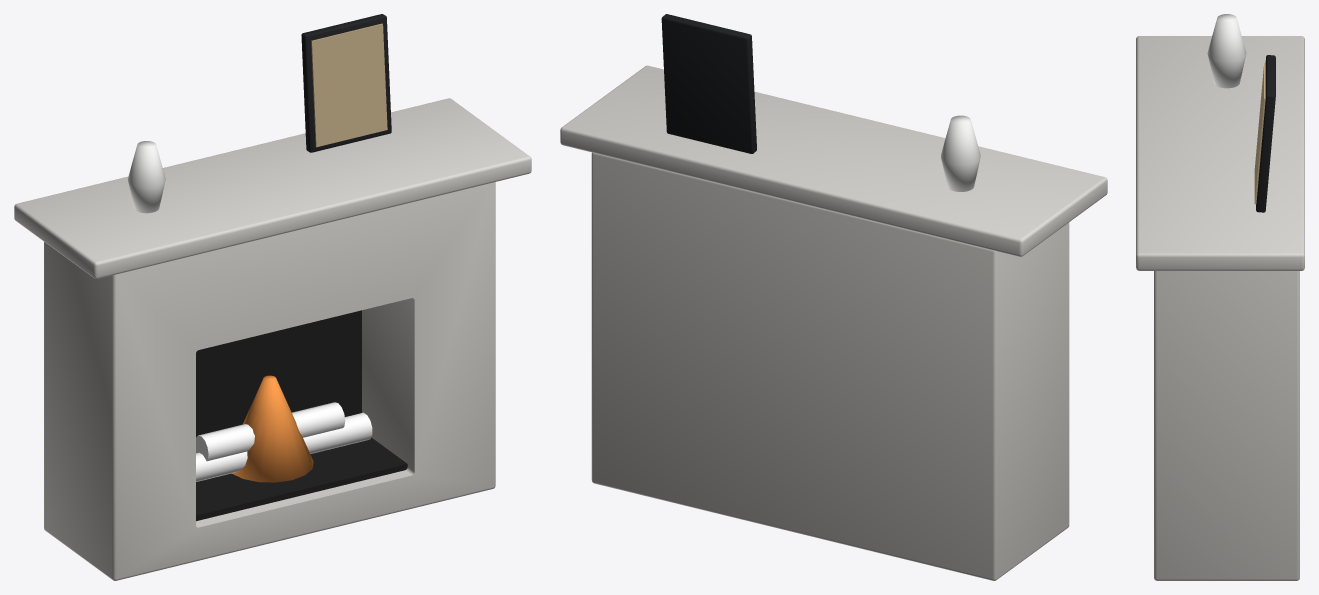
File: lareira.glb
3 renders of one model, left to right at view 1: azimuth 30°, elevation 25°; view 2: azimuth 150°, elevation 25°; view 3: azimuth 270°, elevation 25°, orthographic. The views are drawn at different scales.
Visible parts, largest first — view 1: p; view 2: p; view 3: p.
Boxes of the visible parts, left/top/right/bottom form: p: left=14, top=14, right=531, bottom=580; p: left=560, top=14, right=1107, bottom=580; p: left=1136, top=14, right=1304, bottom=580.
Bounding box in the file's own units: 1.6 × 1.56 × 0.52.
